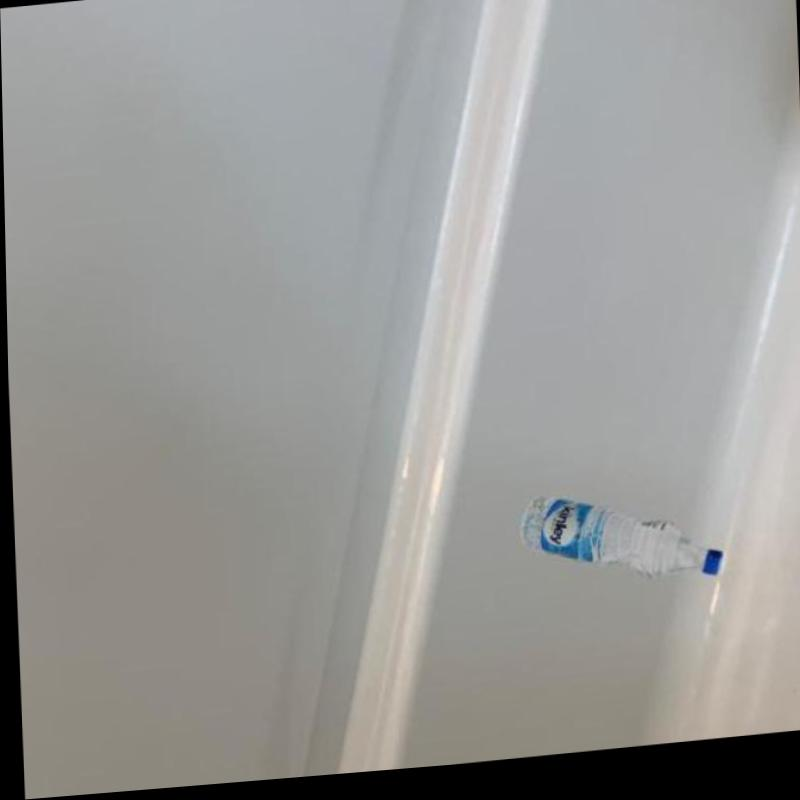botella: (513, 487, 721, 604)
